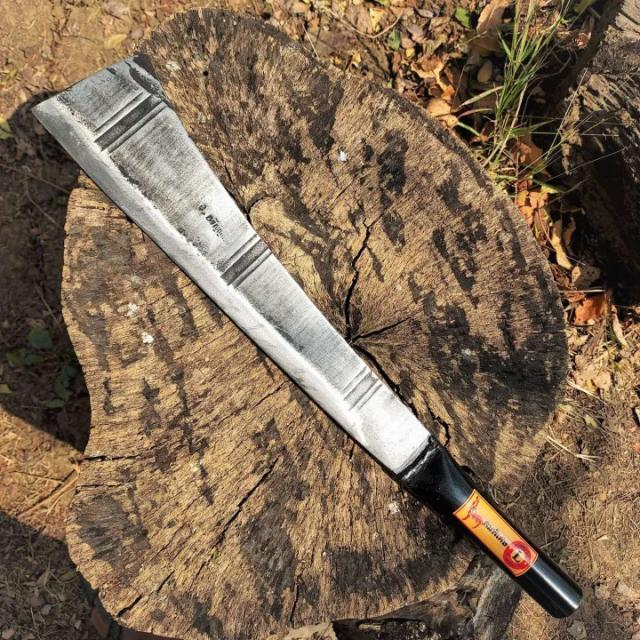eto: (30, 43, 590, 624)
